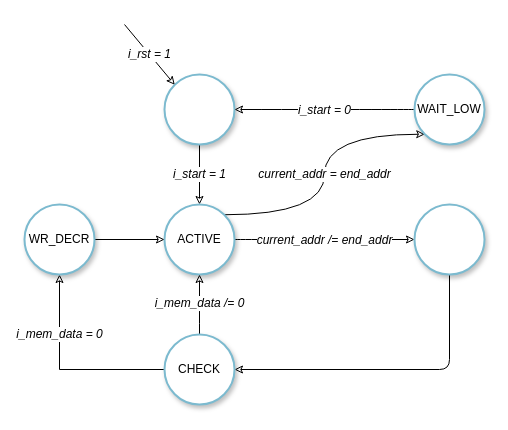
This 508x430 diagram has some shape labels left out. The centre of each missing label's shape, as x and y in pixels:
"IDLE" goes at [200,110].
"WAIT_RD" goes at [450,240].
